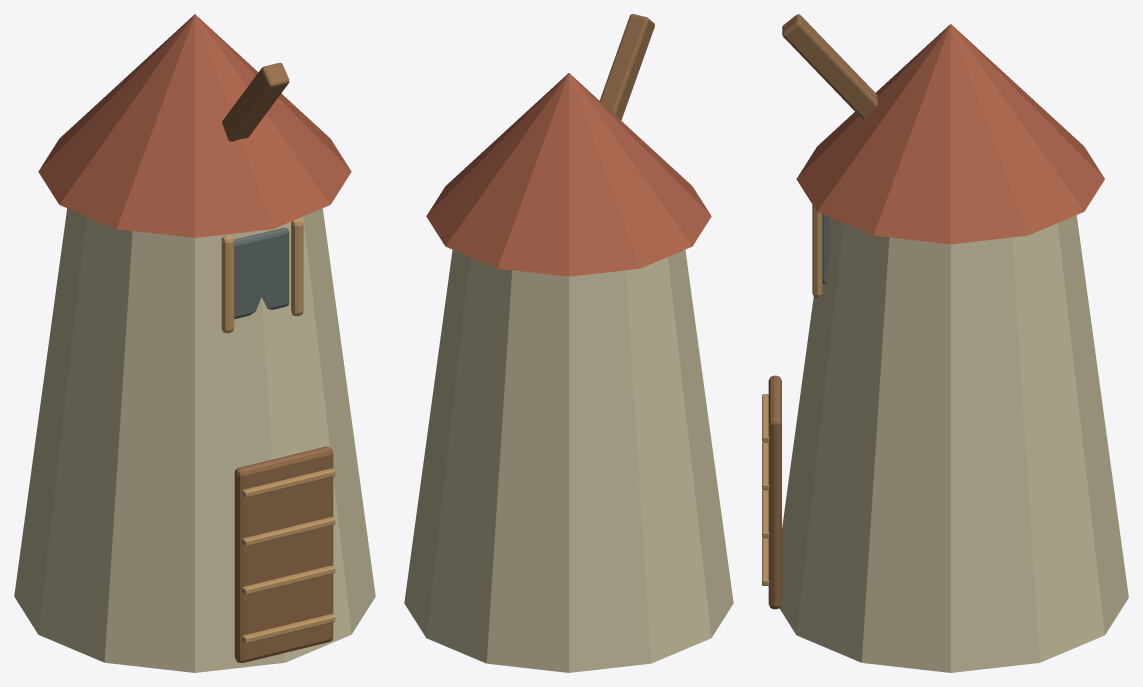
File: trail_windmill.glb
3 views of the same model, side by side, from view 1: azimuth 30°, elevation 25°; view 2: azimuth 150°, elevation 25°; view 3: azimuth 270°, elevation 25° (orthographic). The views are drawn at different scales.
Visible parts, largest first — view 1: trail_windmill; view 2: trail_windmill; view 3: trail_windmill.
Boxes of the visible parts, x1,y1,x2,y2 form: trail_windmill: (14, 14, 375, 672); trail_windmill: (404, 14, 733, 672); trail_windmill: (762, 14, 1128, 672).
Size of the model in its own units: 2.7 by 4.85 by 2.78.
